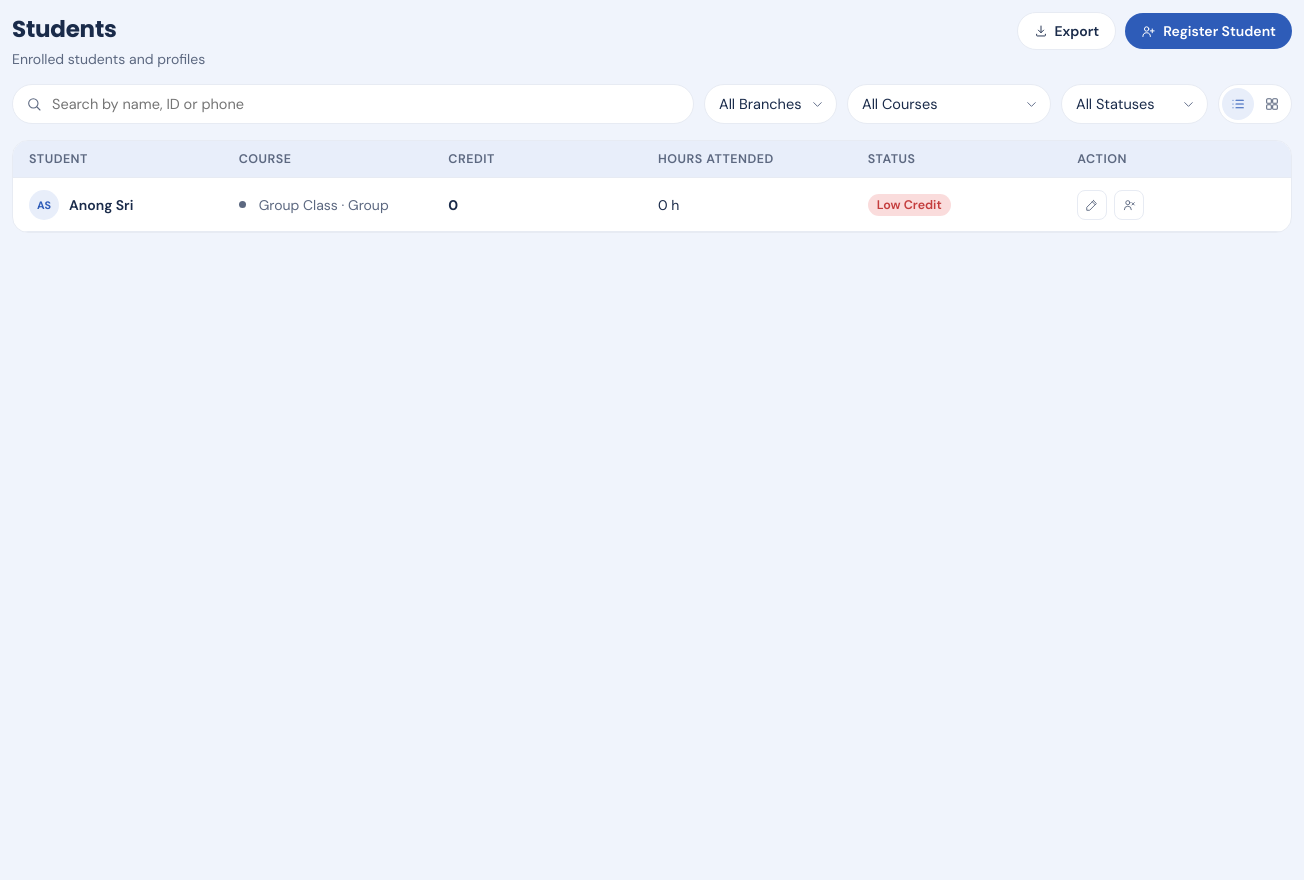
Test case: a write the server accepts and does not perform › is reported instead of passing as a save
Step 1. Click the text "Anong Sri" → (101, 204), box [69,196,133,214]
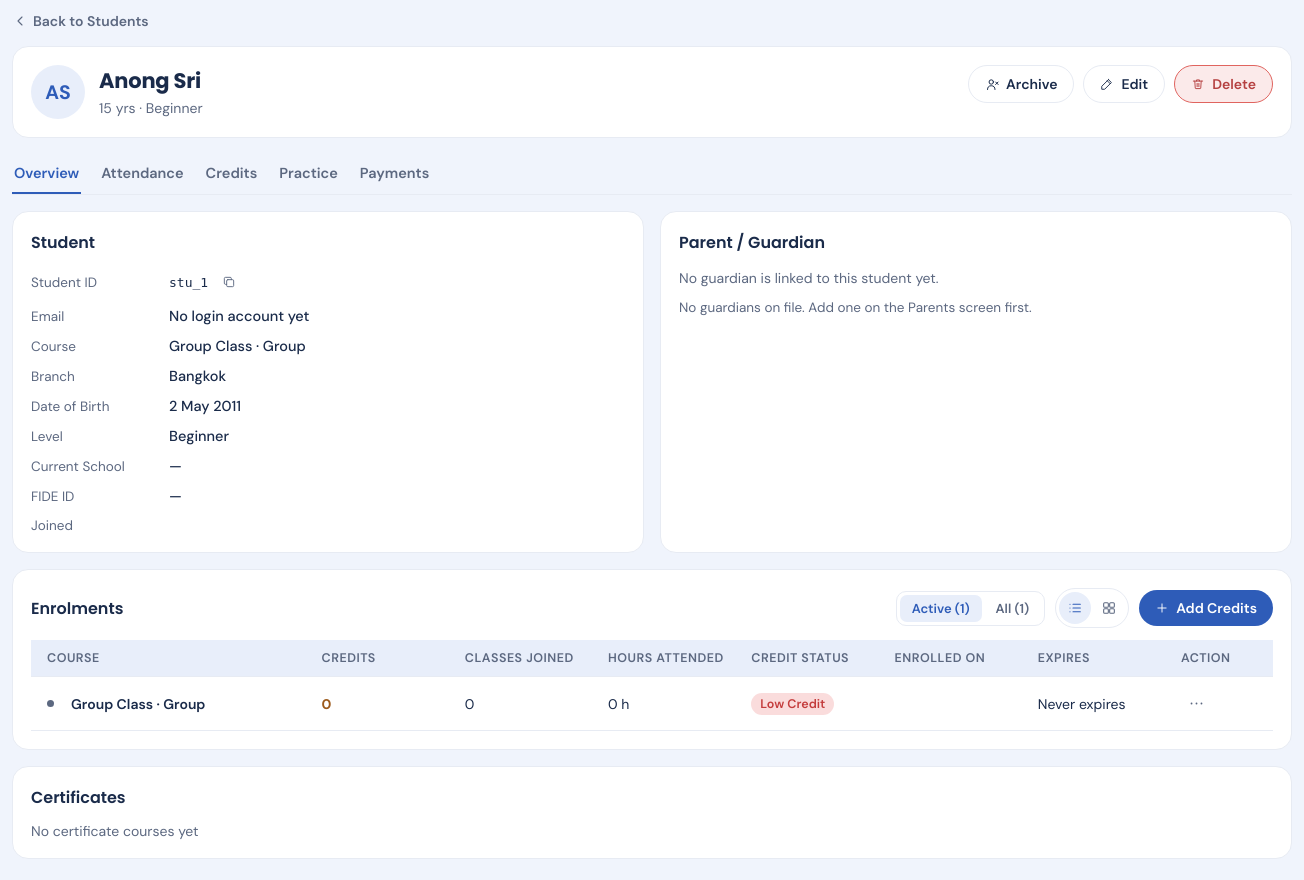
Expected: the button "Back to Students" is shown, [12,12,149,30]
Step 2. Click the button "Edit" → (1124, 84), box [1084,65,1165,103]
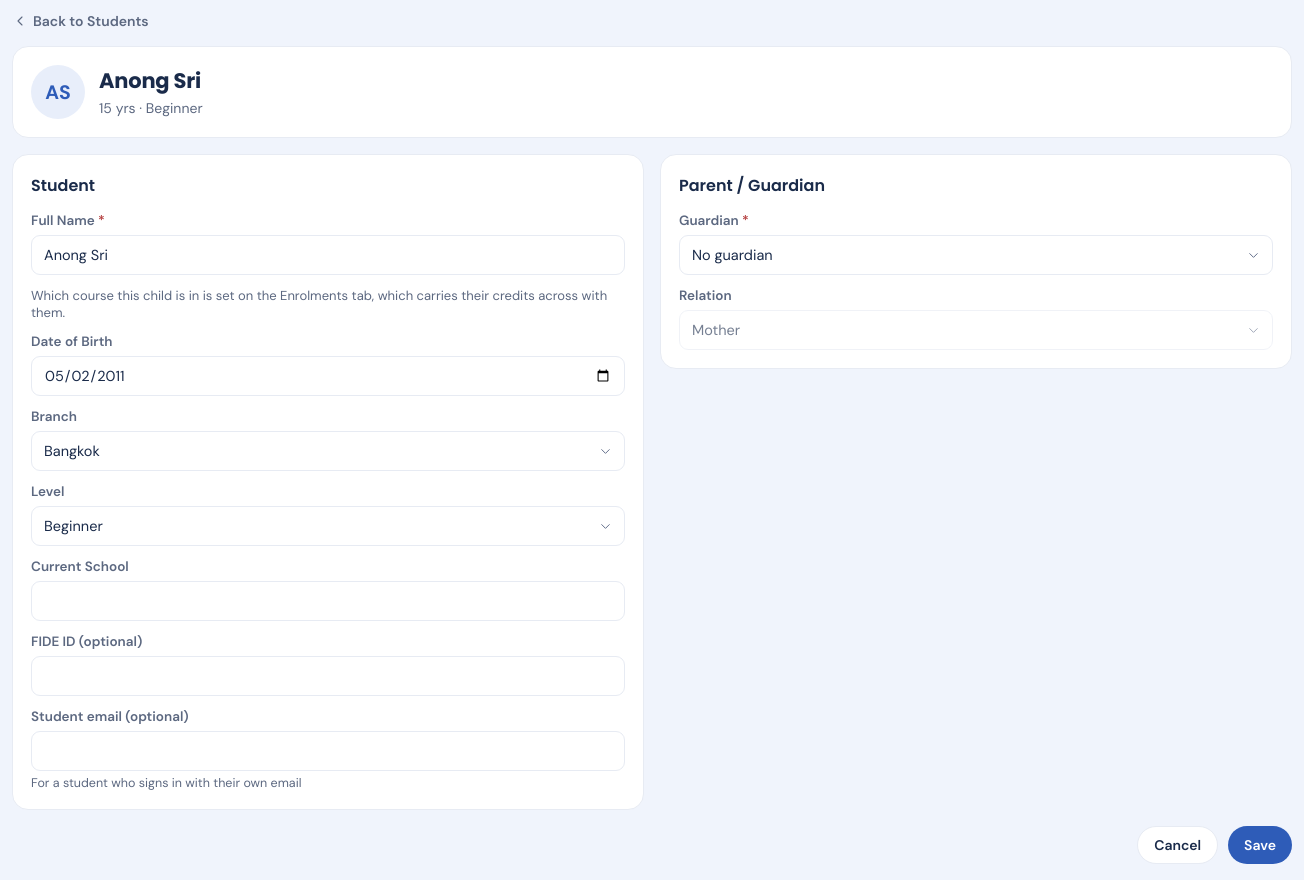
Step 3. Type "2014-03-09" into the date field labelled "Date of Birth" → (328, 376), box [31,356,625,396]
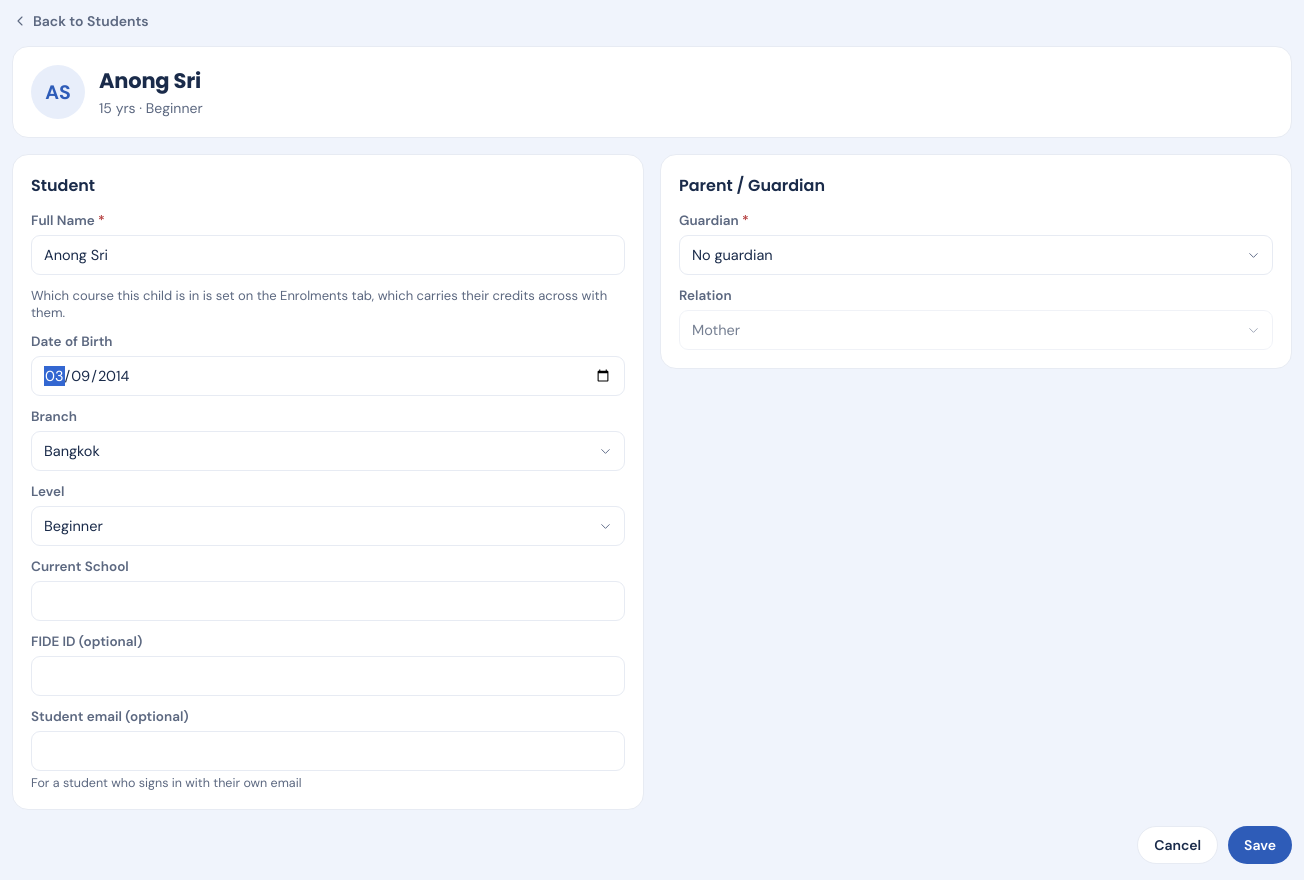
Step 4. Click the button "Save" → (1260, 845), box [1228,826,1292,864]
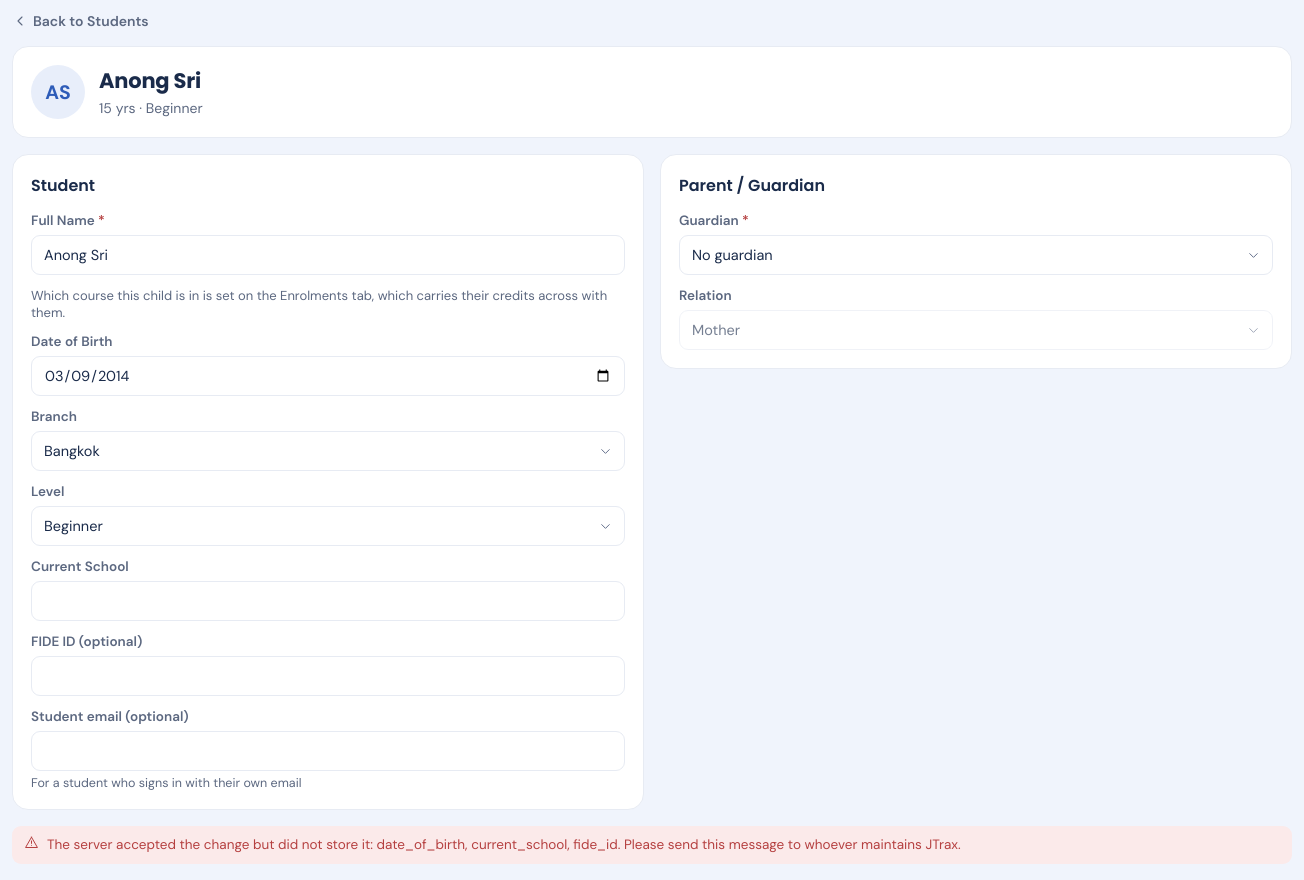
Expected: the text "date_of_birth" is shown, [47,836,961,853]
